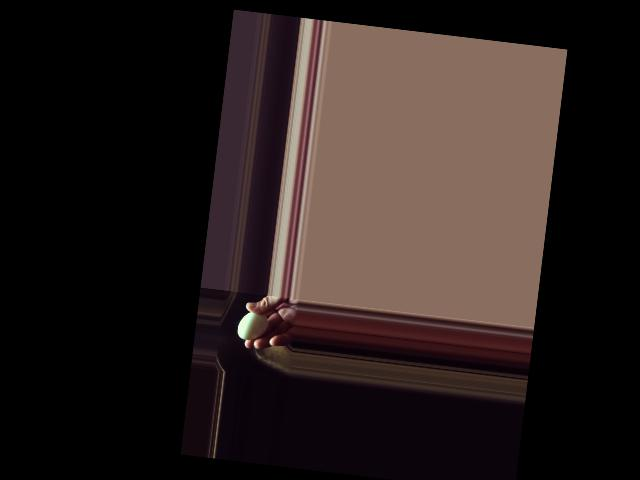egg: (236, 310, 269, 341)
